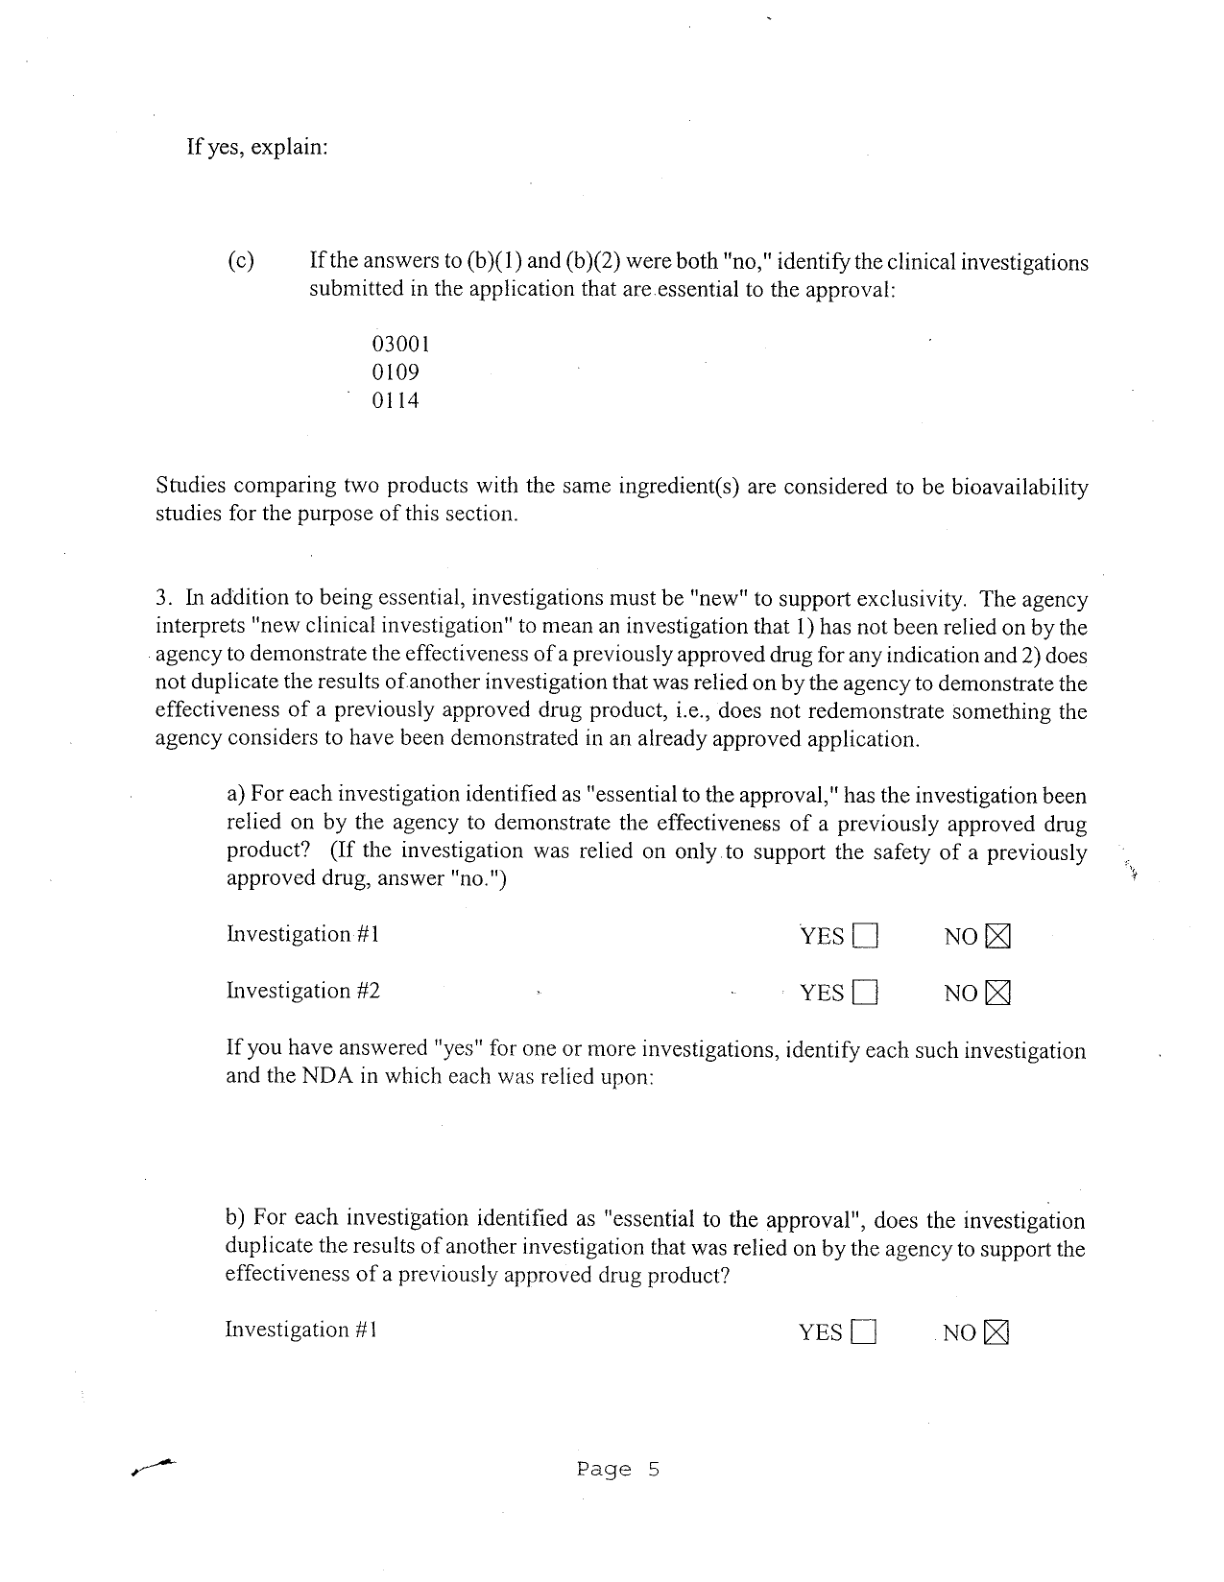nolines: (223, 918, 1015, 1014), (223, 1314, 1011, 1351)
